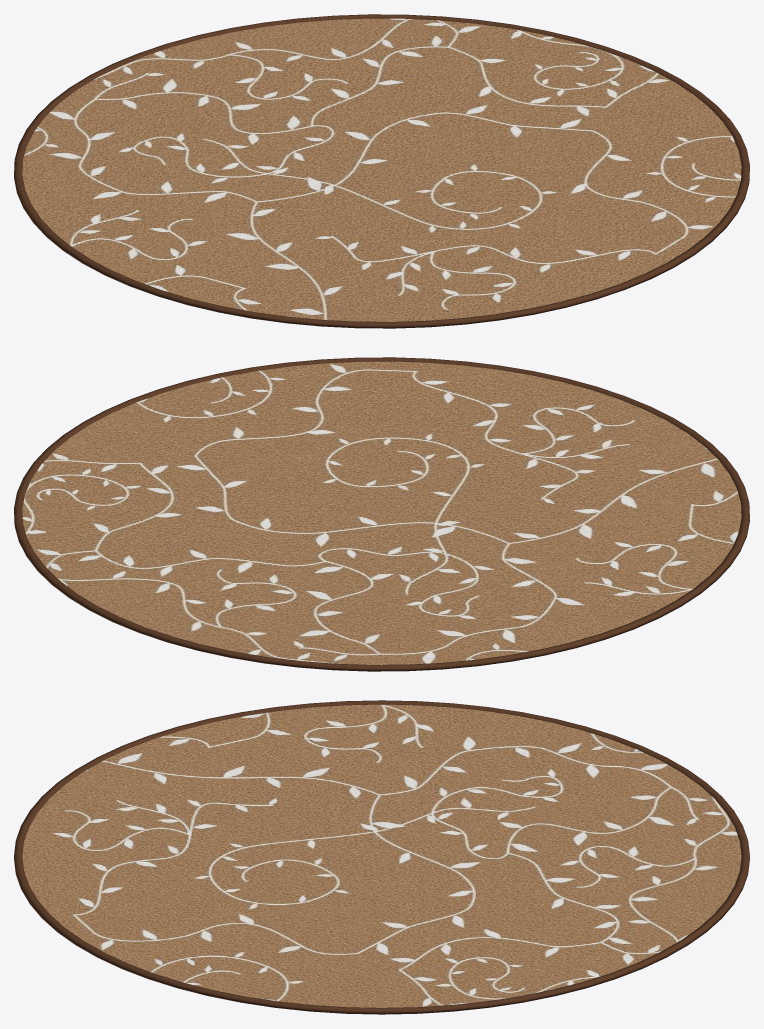
The model's file is sh_scopia_round_carpet.glb.
3 views of the same model, one above another, from view 1: azimuth 30°, elevation 25°; view 2: azimuth 150°, elevation 25°; view 3: azimuth 270°, elevation 25° (orthographic).
Size of the model in its own units: 0.8 by 0.0052 by 0.8.
Materials: 2 (1 with a texture image).
